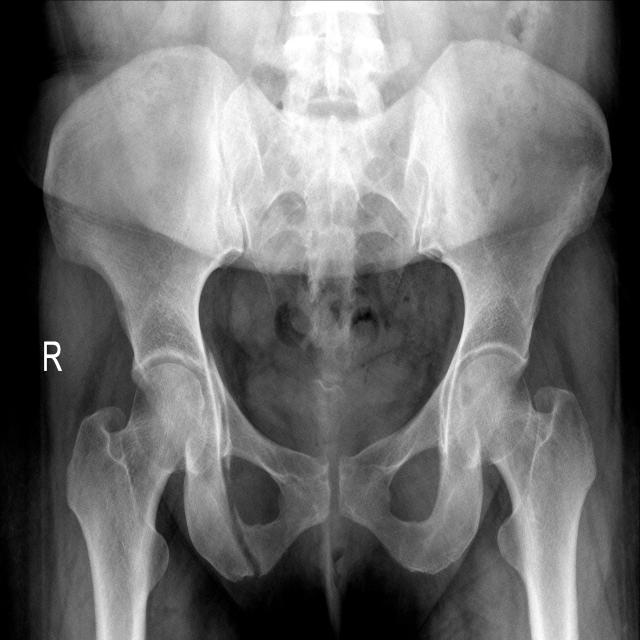normal-left: (453, 354, 597, 640)
normal-right: (66, 362, 209, 640)
